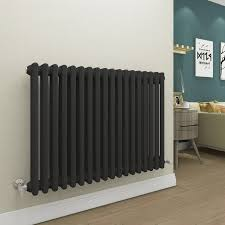Radiator: (17, 60, 171, 197)
